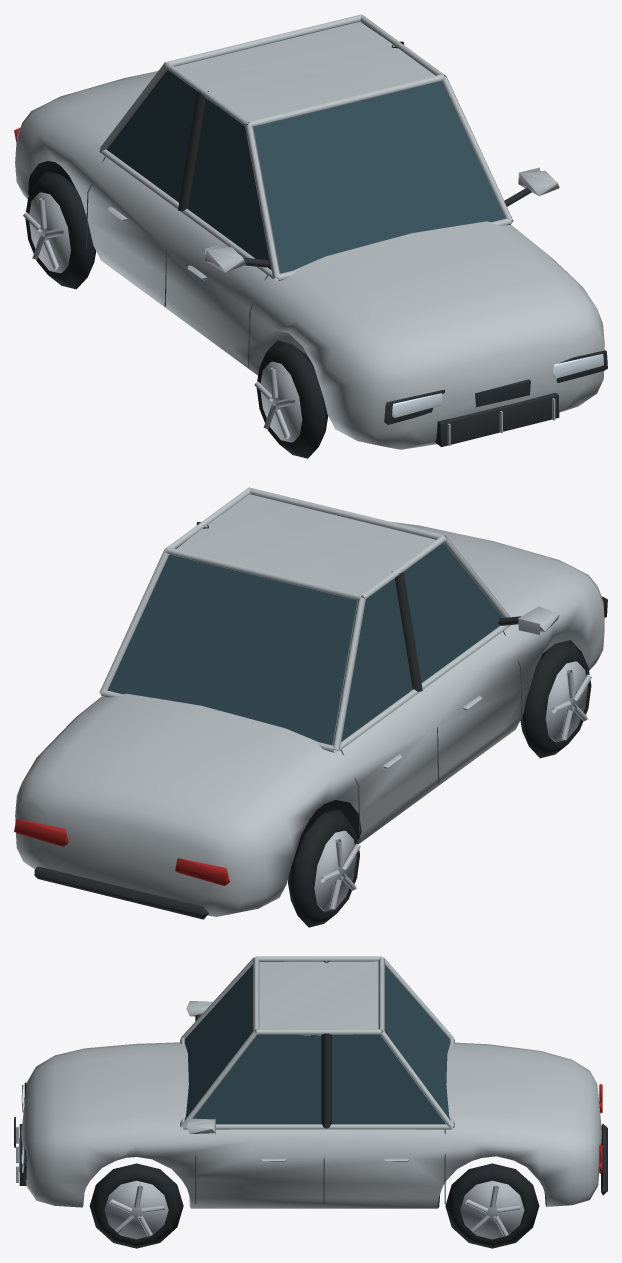
Rendered from vehicle-suv-lod2.glb.
3 renders of one model, top to bottom at view 1: azimuth 30°, elevation 25°; view 2: azimuth 150°, elevation 25°; view 3: azimuth 270°, elevation 25°, orthographic. The views are drawn at different scales.
Visible parts, largest first — view 1: vehicle-suv_MATERIAL_BATCH; view 2: vehicle-suv_MATERIAL_BATCH; view 3: vehicle-suv_MATERIAL_BATCH.
Part boxes in pixels (bbox=[...]): vehicle-suv_MATERIAL_BATCH: bbox=[14, 14, 607, 458]; vehicle-suv_MATERIAL_BATCH: bbox=[14, 487, 607, 927]; vehicle-suv_MATERIAL_BATCH: bbox=[14, 956, 607, 1248].
Size of the model in its own units: 2.41 by 1.82 by 4.74.
